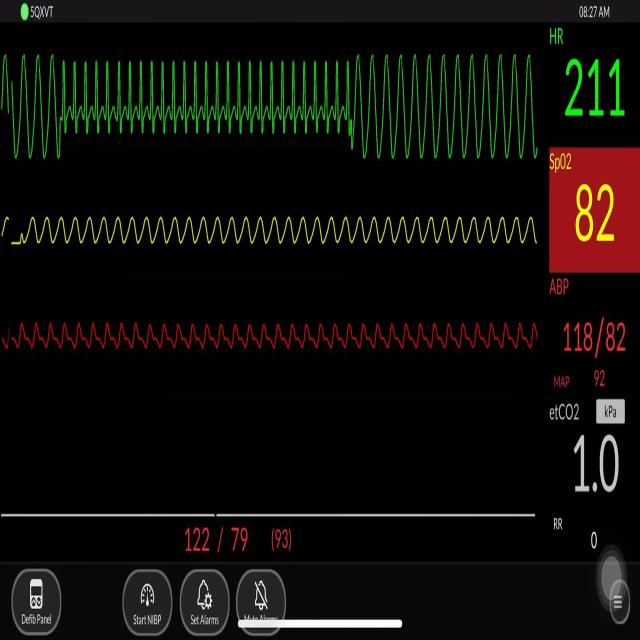danger: (61, 43, 362, 148), (362, 32, 542, 176), (7, 43, 55, 184)
